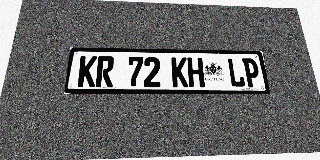2: (144, 57, 160, 87)
7: (126, 57, 143, 87)
H: (187, 57, 205, 87)
K: (77, 56, 97, 87), (171, 57, 188, 87)
L: (227, 58, 246, 87)
P: (242, 58, 261, 87)
R: (95, 56, 114, 87)
